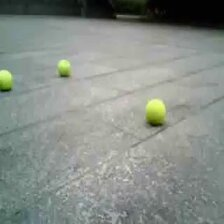tennis: (146, 99, 166, 123), (1, 69, 14, 91), (56, 60, 72, 74)
